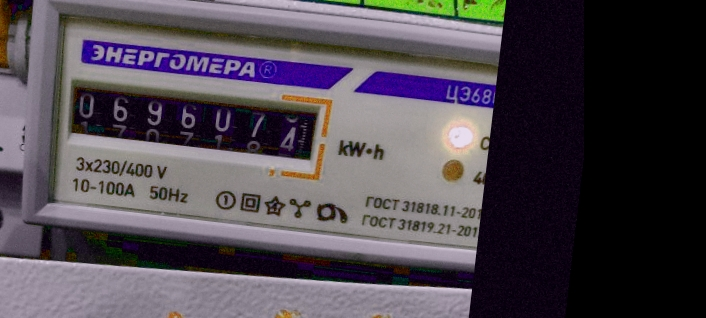0: (75, 88, 97, 119), (211, 103, 233, 132)
4: (277, 123, 298, 153)
6: (178, 99, 199, 129), (109, 93, 130, 122)
7: (245, 107, 267, 139)
9: (143, 97, 164, 127)
screen: (50, 63, 338, 182)
